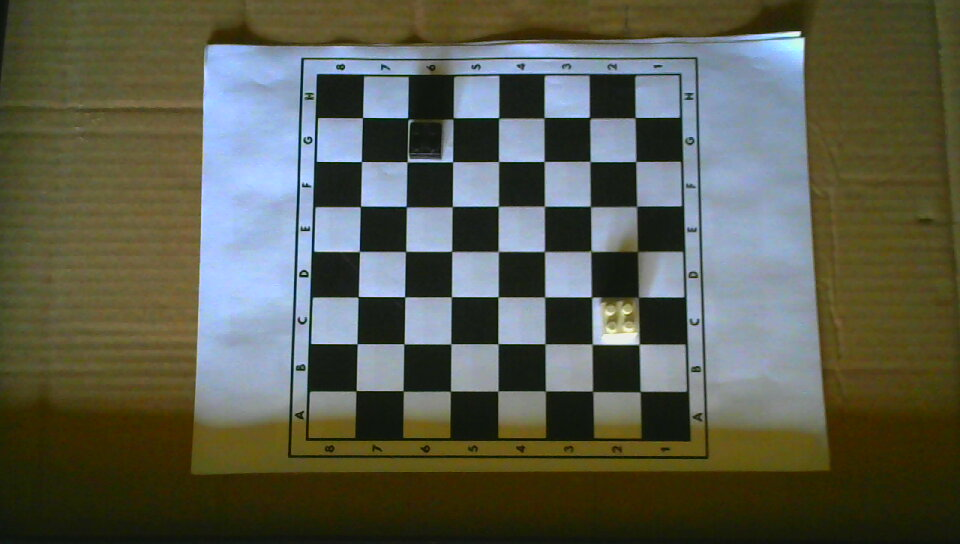bp: (408, 119, 444, 159)
wp: (598, 298, 638, 341)
